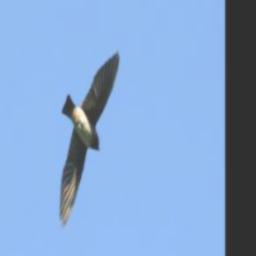Swallow: (57, 48, 117, 229)
